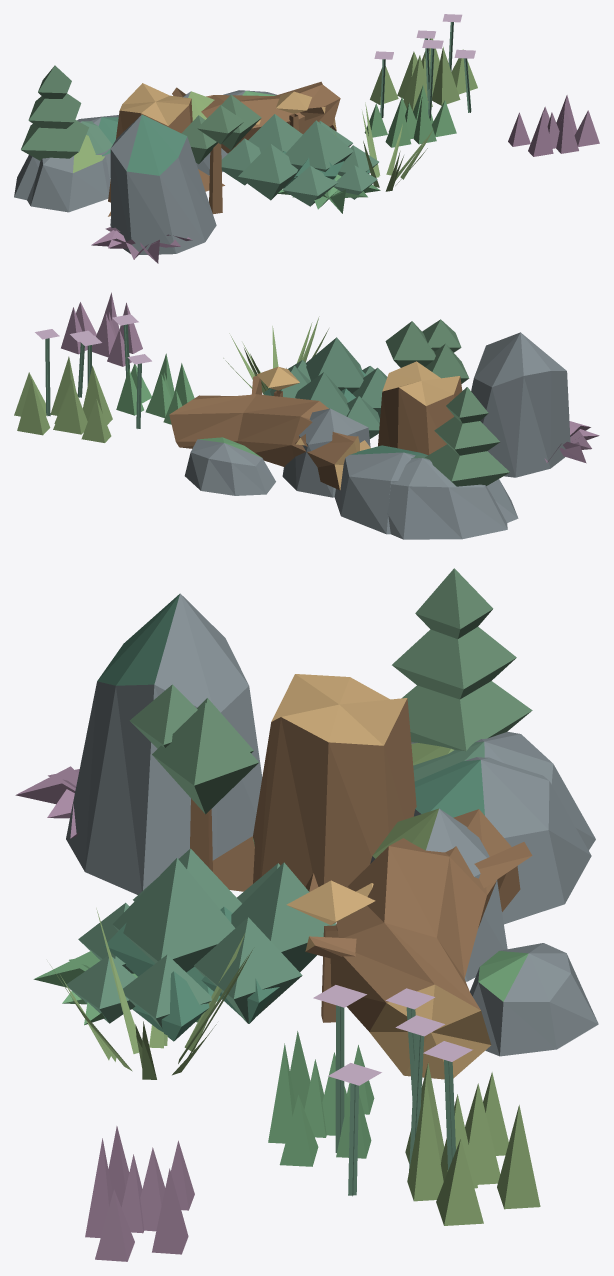
The model's file is WG_ForestVergeClusters.glb.
3 renders of one model, top to bottom at view 1: azimuth 30°, elevation 25°; view 2: azimuth 150°, elevation 25°; view 3: azimuth 270°, elevation 25°, orthographic. The views are drawn at different scales.
Parts seen in each view (by area): view 1: GEO_VergeGraniteBilberry_LOD0, GEO_VergeShrubFlowers_LOD0, GEO_VergeRockGrass_LOD0, GEO_VergeSaplingMushroom_LOD0, GEO_VergeDeadwoodHeather_LOD0, GEO_VergeStumpFern_LOD0; view 2: GEO_VergeGraniteBilberry_LOD0, GEO_VergeShrubFlowers_LOD0, GEO_VergeDeadwoodHeather_LOD0, GEO_VergeStumpFern_LOD0, GEO_VergeRockGrass_LOD0, GEO_VergeSaplingMushroom_LOD0; view 3: GEO_VergeGraniteBilberry_LOD0, GEO_VergeStumpFern_LOD0, GEO_VergeDeadwoodHeather_LOD0, GEO_VergeShrubFlowers_LOD0, GEO_VergeSaplingMushroom_LOD0, GEO_VergeRockGrass_LOD0.
Part boxes in pixels (x1,y1,x2,y2): GEO_VergeGraniteBilberry_LOD0: (77, 114, 370, 254); GEO_VergeShrubFlowers_LOD0: (14, 14, 475, 206); GEO_VergeRockGrass_LOD0: (27, 38, 477, 212); GEO_VergeSaplingMushroom_LOD0: (21, 65, 311, 214); GEO_VergeDeadwoodHeather_LOD0: (91, 81, 599, 263); GEO_VergeStumpFern_LOD0: (108, 83, 456, 216); GEO_VergeGraniteBilberry_LOD0: (264, 332, 570, 534); GEO_VergeShrubFlowers_LOD0: (35, 314, 507, 539); GEO_VergeDeadwoodHeather_LOD0: (61, 292, 599, 490); GEO_VergeStumpFern_LOD0: (116, 353, 462, 495); GEO_VergeRockGrass_LOD0: (14, 316, 518, 522); GEO_VergeSaplingMushroom_LOD0: (256, 319, 509, 486); GEO_VergeGraniteBilberry_LOD0: (66, 593, 591, 1041); GEO_VergeStumpFern_LOD0: (33, 674, 598, 1166); GEO_VergeDeadwoodHeather_LOD0: (15, 766, 532, 1261); GEO_VergeShrubFlowers_LOD0: (65, 731, 595, 1196); GEO_VergeSaplingMushroom_LOD0: (129, 568, 532, 1022); GEO_VergeRockGrass_LOD0: (50, 742, 540, 1225).
Bounding box in the file's own units: 2.9 × 0.69 × 1.48.
